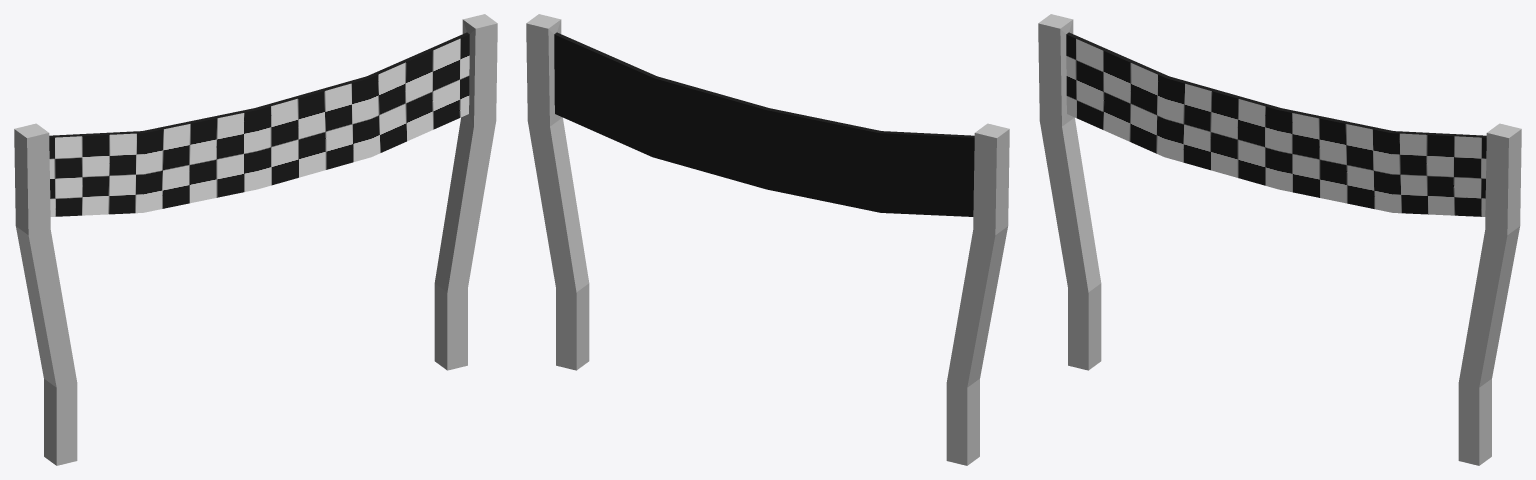
The model's file is Finish.glb.
The picture shows the model from 3 angles, left to right: view 1: azimuth 30°, elevation 25°; view 2: azimuth 150°, elevation 25°; view 3: azimuth 330°, elevation 25°; orthographic projection.
Visible parts, largest first — view 1: Checkpoint.001; view 2: Checkpoint.001; view 3: Checkpoint.001.
Part boxes in pixels (x1,y1,x2,y2): Checkpoint.001: (14, 14, 497, 465); Checkpoint.001: (526, 14, 1009, 465); Checkpoint.001: (1038, 14, 1521, 465).
Bounding box in the file's own units: 12.61 × 8.58 × 0.5946.
Materials: 2 (1 with a texture image).
